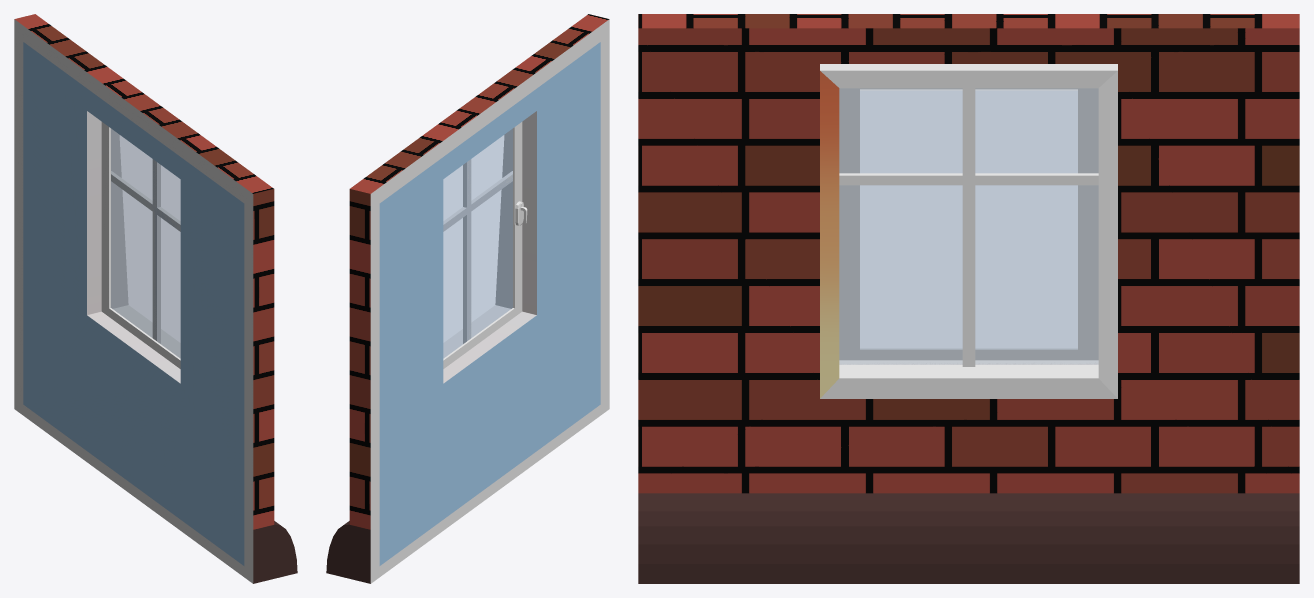
The model's file is Window B.fbx.
3 views of the same model, side by side, from view 1: azimuth 30°, elevation 25°; view 2: azimuth 150°, elevation 25°; view 3: azimuth 270°, elevation 25° (orthographic). The views are drawn at different scales.
Parts seen in each view (by area): view 1: Window B; view 2: Window B; view 3: Window B.
Part boxes in pixels (bbox=[...]): Window B: bbox=[14, 14, 297, 583]; Window B: bbox=[326, 14, 609, 583]; Window B: bbox=[638, 14, 1299, 583].
Bounding box in the file's own units: 85.83 × 721 × 800.
